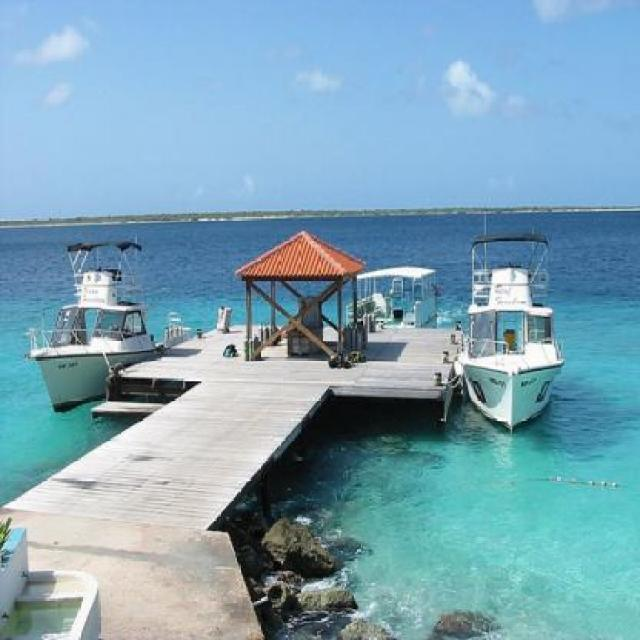ship: (19, 232, 159, 410), (458, 231, 564, 432), (348, 261, 440, 325)
